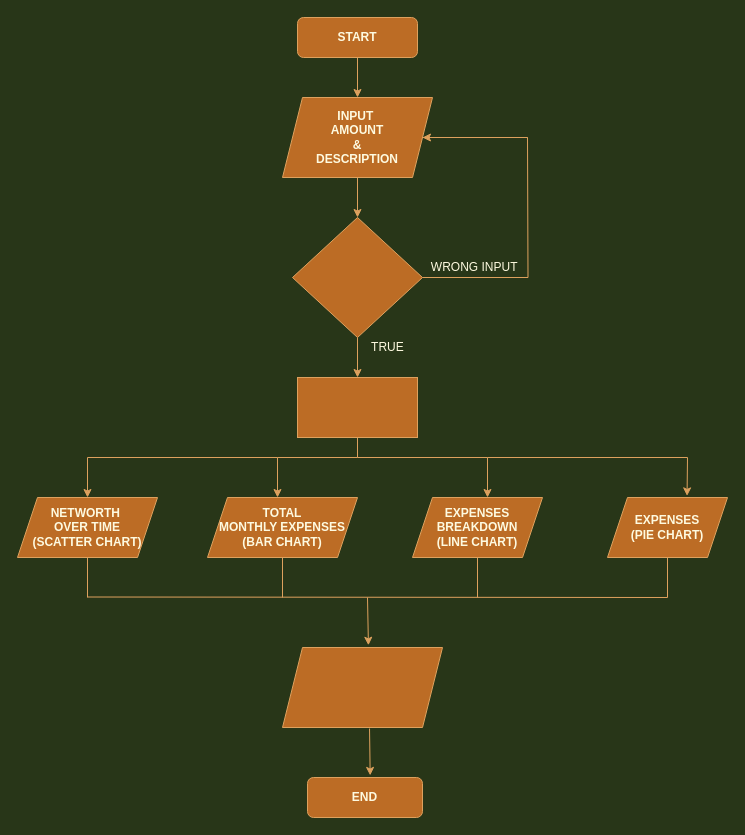
This 745x835 diagram has some shape labels left out. The box of each missing label's shape, as (x1, y1, x2, y2) in pixels:
DASHBOARD CREATED: (282, 646, 442, 728)
DATA PRE-PROCESSING: (296, 376, 418, 438)
IF CORRECTLY INPUT GIVEN: (292, 216, 422, 338)
